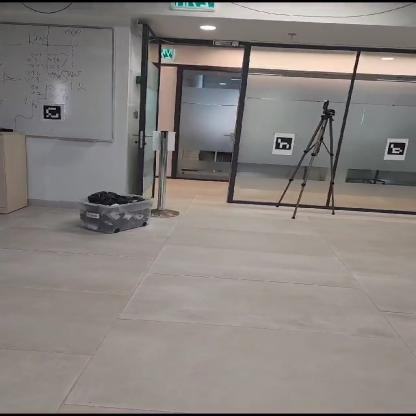open: (148, 67, 240, 211)
